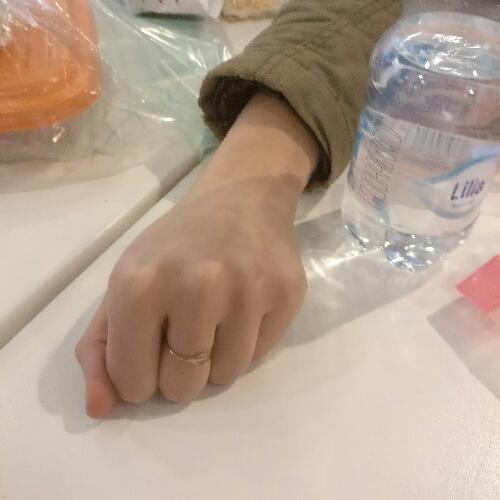rock: (70, 190, 312, 424)
